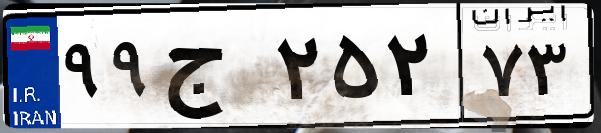2: (270, 28, 330, 110), (385, 28, 445, 110)
3: (525, 38, 570, 115)
5: (330, 28, 385, 110)
7: (475, 38, 525, 113)
9: (57, 26, 110, 100), (110, 28, 158, 98)
ج: (158, 20, 270, 120)
